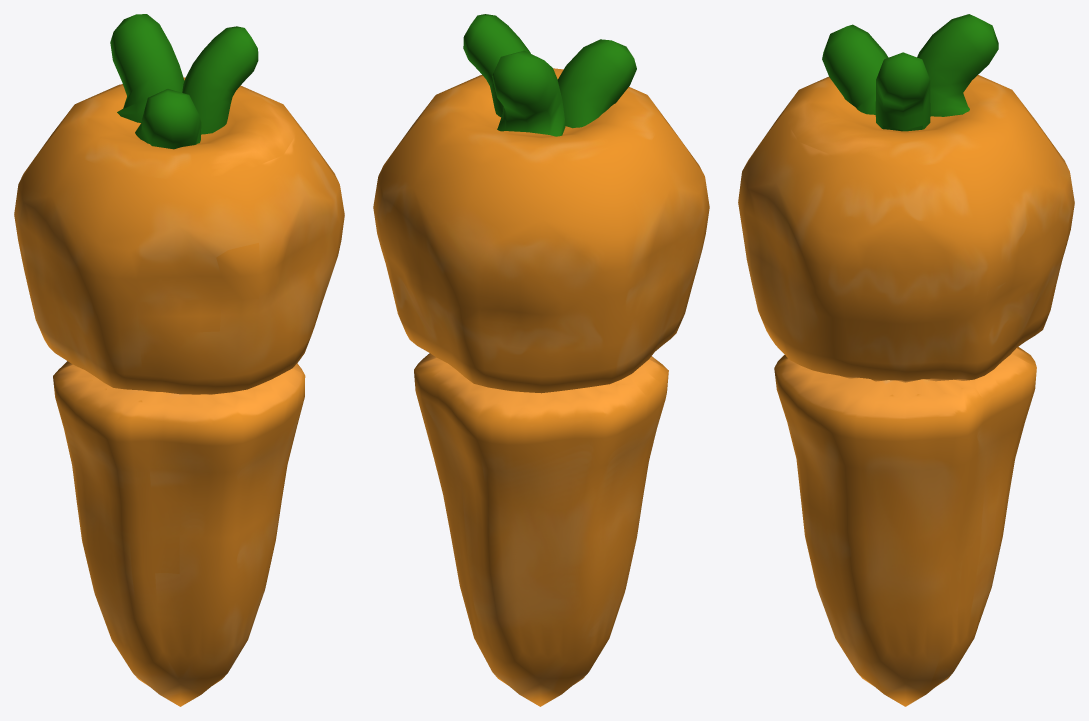
Rendered from CarrotSliced.fbx.
3 views of the same model, side by side, from view 1: azimuth 30°, elevation 25°; view 2: azimuth 150°, elevation 25°; view 3: azimuth 270°, elevation 25° (orthographic). The views are drawn at different scales.
Parts seen in each view (by area): view 1: Top, Bottom; view 2: Top, Bottom; view 3: Top, Bottom.
Part boxes in pixels (box(x1,y1,x2,y2)): Top: box(14, 14, 344, 394); Bottom: box(53, 361, 305, 706); Top: box(373, 14, 709, 393); Bottom: box(414, 353, 668, 706); Top: box(738, 14, 1074, 382); Bottom: box(774, 346, 1036, 706).
Bounding box in the file's own units: 159 × 379 × 169.
